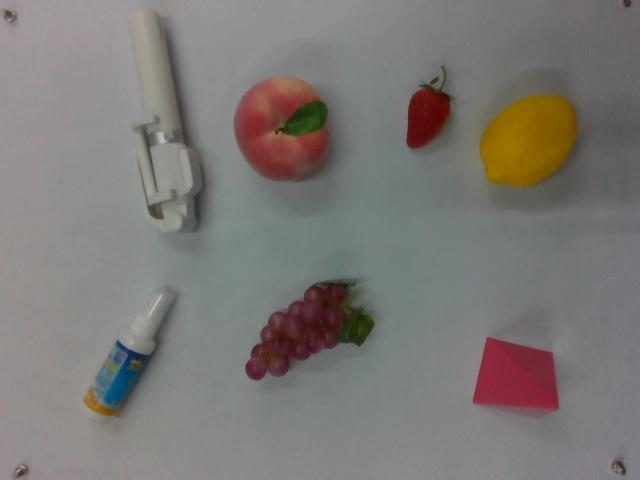detergent: (78, 287, 177, 423)
grape: (240, 276, 373, 385)
lemon: (480, 91, 581, 191)
peach: (234, 72, 330, 184)
pyramid: (474, 333, 561, 421)
selfiestick: (118, 8, 206, 238)
strawberry: (403, 65, 456, 152)
